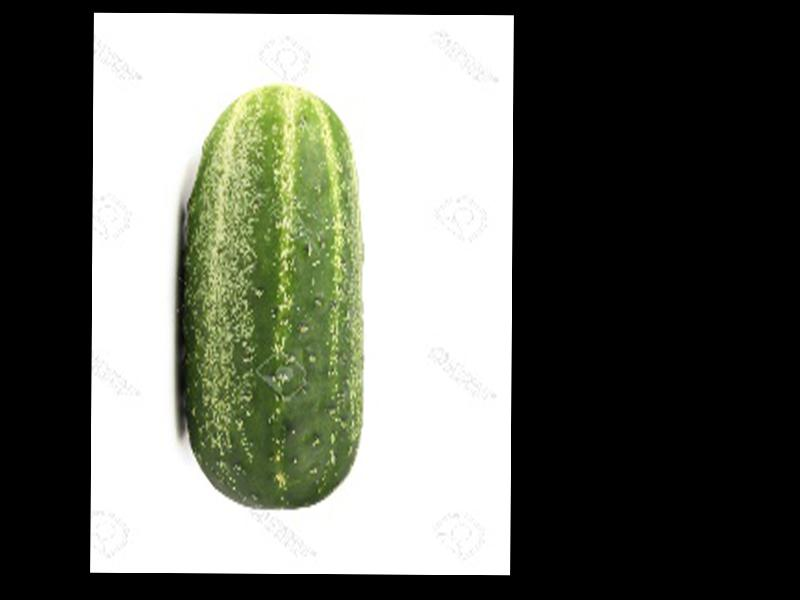Cucumber: (179, 87, 364, 513)
